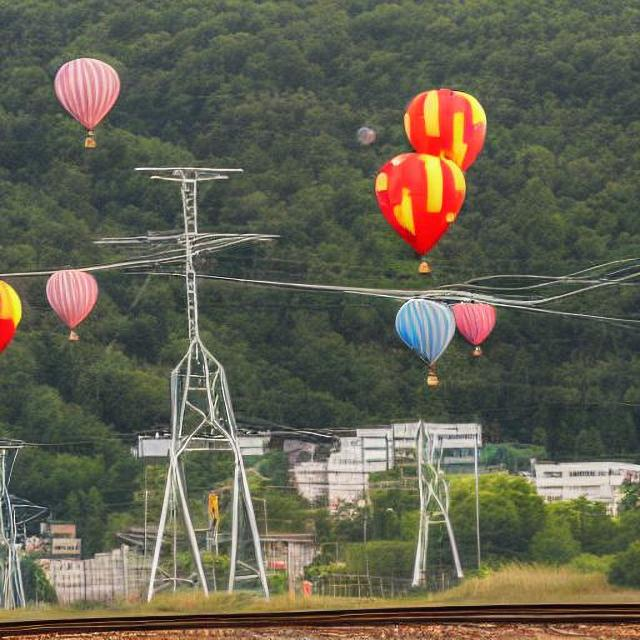balloon: (370, 92, 483, 258), (394, 296, 488, 377), (51, 55, 121, 141), (44, 266, 99, 336), (432, 292, 498, 350), (0, 274, 22, 353)
